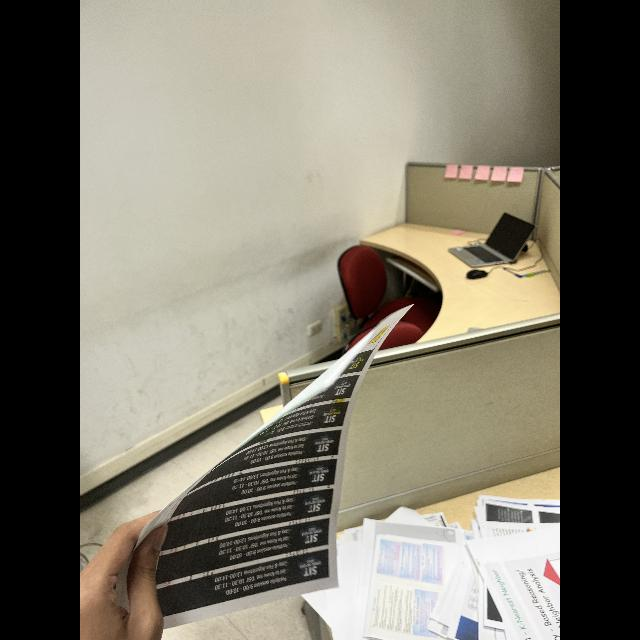reuseable_paper: (128, 300, 416, 630), (292, 496, 560, 640)
